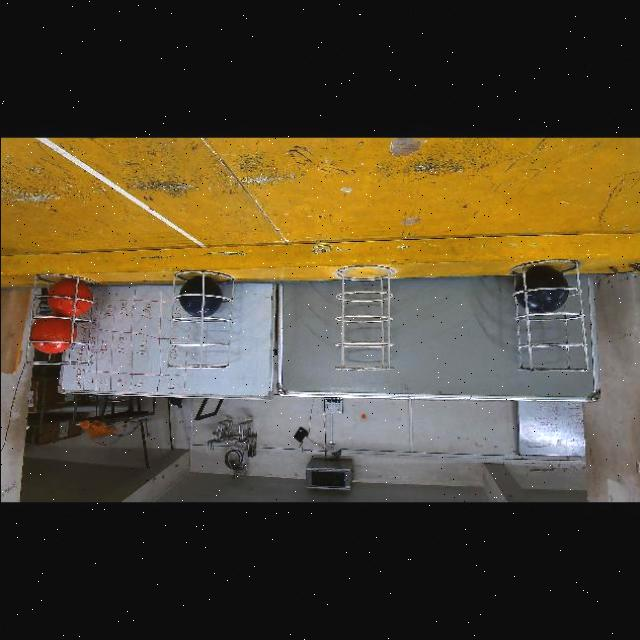P: (519, 263, 567, 309), (179, 274, 222, 316)
R: (29, 316, 76, 353), (46, 278, 91, 316)
S: (509, 257, 589, 371), (333, 261, 395, 369), (168, 267, 228, 369), (35, 278, 95, 366)
